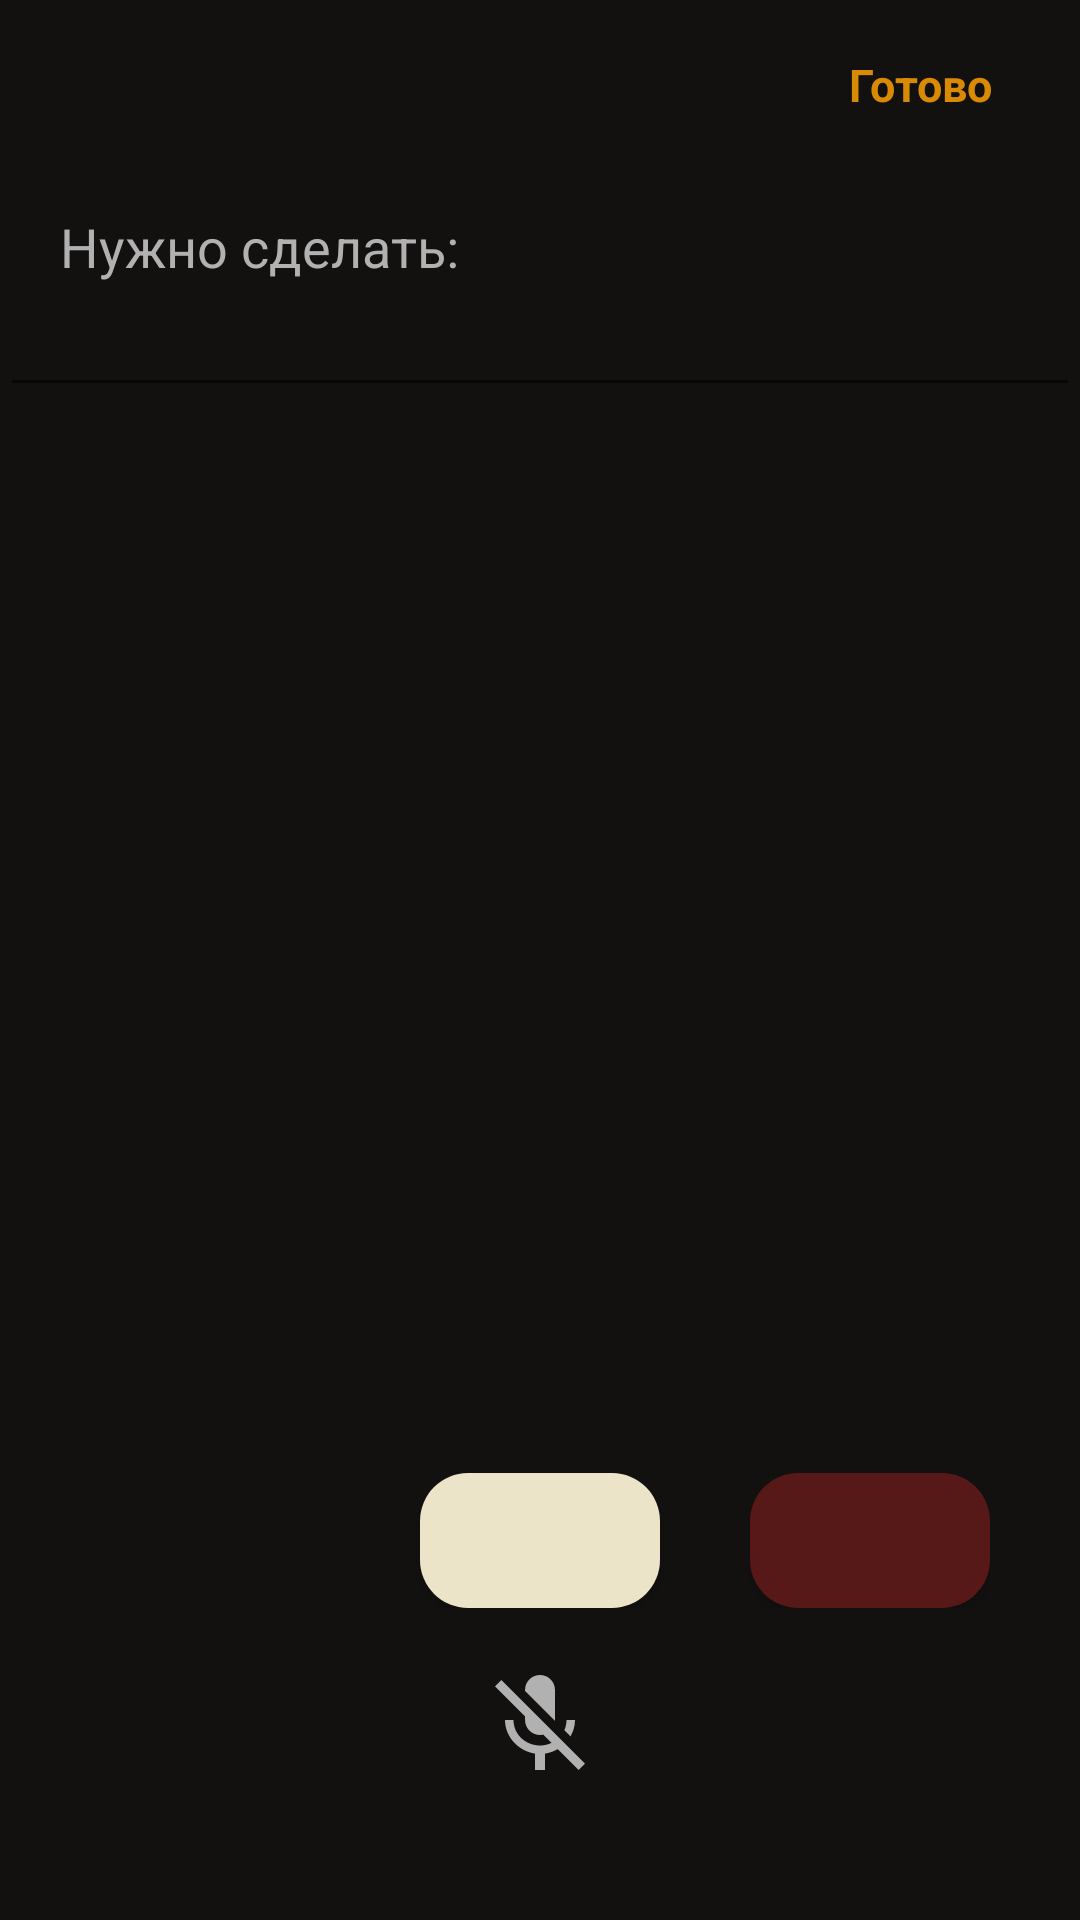

Icon bounding boxes for this 1080 x 1920 phone screenshot, format (x1, y1, x2, y2):
mic off: (495, 1675, 585, 1770)
